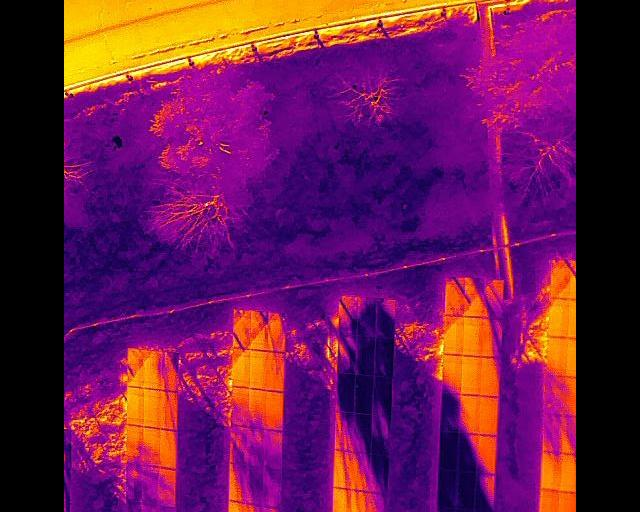No-Anomaly: (479, 395, 498, 436), (462, 355, 481, 395), (541, 451, 560, 489), (547, 336, 566, 374), (463, 316, 481, 356), (549, 297, 567, 337), (266, 389, 284, 429), (160, 428, 178, 467), (249, 349, 266, 389), (559, 452, 576, 490), (144, 387, 160, 427), (127, 387, 143, 424), (540, 489, 558, 512), (559, 490, 575, 512), (229, 502, 244, 512)
Shadowing: (481, 317, 503, 357), (483, 277, 504, 317), (481, 357, 501, 397), (352, 412, 372, 451), (372, 374, 392, 413), (478, 433, 497, 473), (551, 259, 571, 297), (266, 351, 285, 391), (371, 413, 391, 451), (262, 466, 280, 508), (446, 276, 465, 315), (461, 395, 480, 434), (230, 386, 249, 425), (335, 410, 354, 449), (338, 334, 357, 373), (339, 295, 358, 334), (357, 296, 376, 335), (440, 432, 460, 469), (444, 354, 462, 395), (160, 350, 178, 391), (457, 470, 476, 508), (544, 374, 563, 412), (143, 426, 162, 464), (370, 451, 389, 489), (376, 298, 395, 336), (445, 315, 463, 355), (459, 432, 477, 472), (465, 276, 483, 316), (355, 373, 373, 413), (351, 452, 370, 489), (438, 469, 457, 506), (543, 412, 561, 451), (231, 425, 249, 464), (244, 465, 262, 504), (264, 429, 282, 468), (269, 312, 287, 351), (357, 335, 375, 374), (442, 395, 460, 433), (158, 468, 176, 506), (375, 336, 393, 374), (249, 389, 266, 429), (126, 425, 144, 462), (337, 373, 355, 410), (160, 388, 177, 427), (251, 310, 268, 349), (233, 309, 250, 347), (247, 428, 264, 466), (334, 449, 351, 487), (142, 464, 158, 504), (233, 347, 249, 387), (144, 350, 160, 389), (229, 463, 245, 502), (476, 472, 493, 508), (125, 462, 140, 501), (561, 414, 576, 452), (129, 348, 144, 386), (333, 486, 351, 512), (368, 489, 387, 512), (351, 489, 367, 512), (125, 501, 141, 512), (142, 503, 158, 512), (245, 504, 261, 512)
